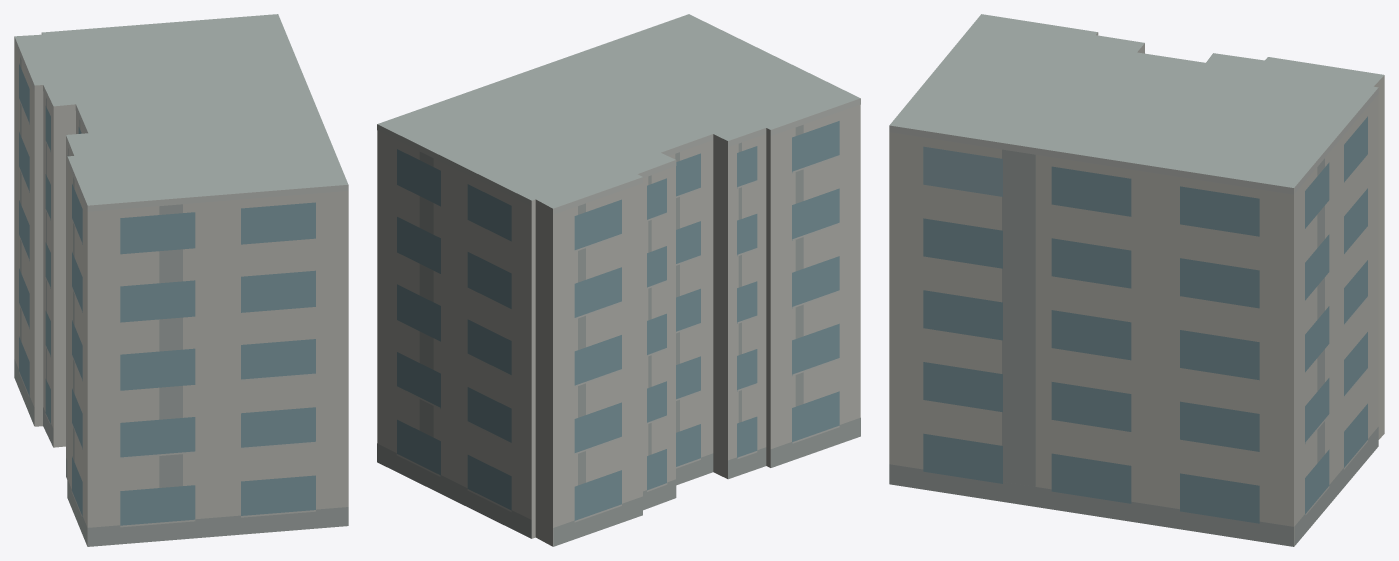
Rendered from survey-upis-32852650.glb.
The picture shows the model from 3 angles, left to right: view 1: azimuth 30°, elevation 25°; view 2: azimuth 150°, elevation 25°; view 3: azimuth 270°, elevation 25°; orthographic projection. The views are drawn at different scales.
Parts seen in each view (by area): view 1: survey-upis-32852650.tmp; view 2: survey-upis-32852650.tmp; view 3: survey-upis-32852650.tmp.
Boxes of the visible parts, box(x1,y1,x2,y2) form: survey-upis-32852650.tmp: box(14, 14, 348, 546); survey-upis-32852650.tmp: box(377, 14, 860, 546); survey-upis-32852650.tmp: box(889, 14, 1384, 546).
Size of the model in its own units: 13.74 by 13.2 by 16.53.
